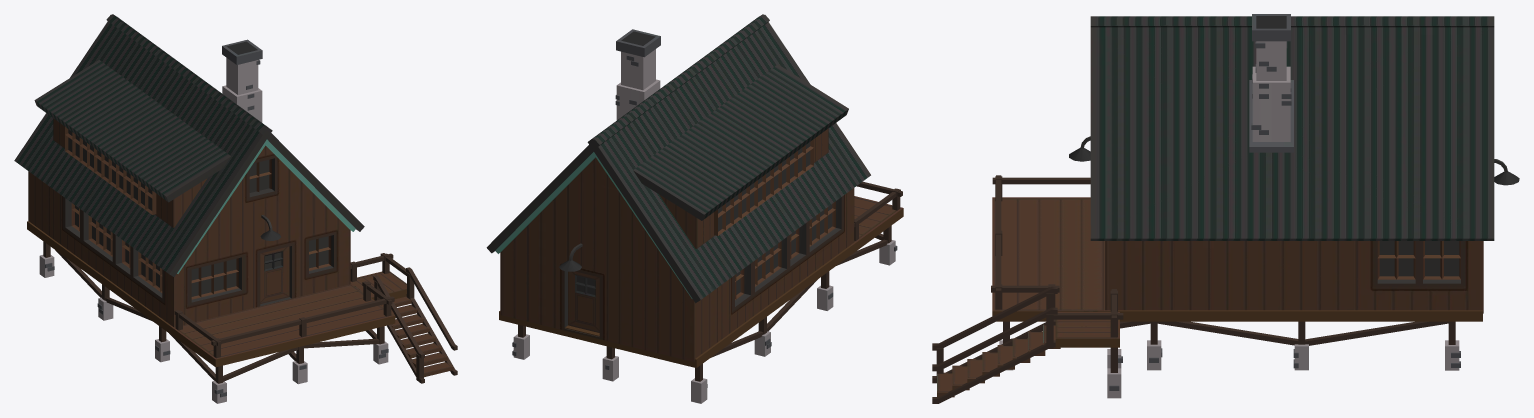
Rendered from Cabin.glb.
The picture shows the model from 3 angles, left to right: view 1: azimuth 30°, elevation 25°; view 2: azimuth 150°, elevation 25°; view 3: azimuth 270°, elevation 25°; orthographic projection. The views are drawn at different scales.
Visible parts, largest first — view 1: Cabin; view 2: Cabin; view 3: Cabin.
Boxes of the visible parts, box(x1,y1,x2,y2) form: Cabin: box(14, 14, 457, 403); Cabin: box(486, 14, 903, 403); Cabin: box(932, 14, 1519, 403).
Bounding box in the file's own units: 920 × 955 × 1550.
1 material, 1 textured.
